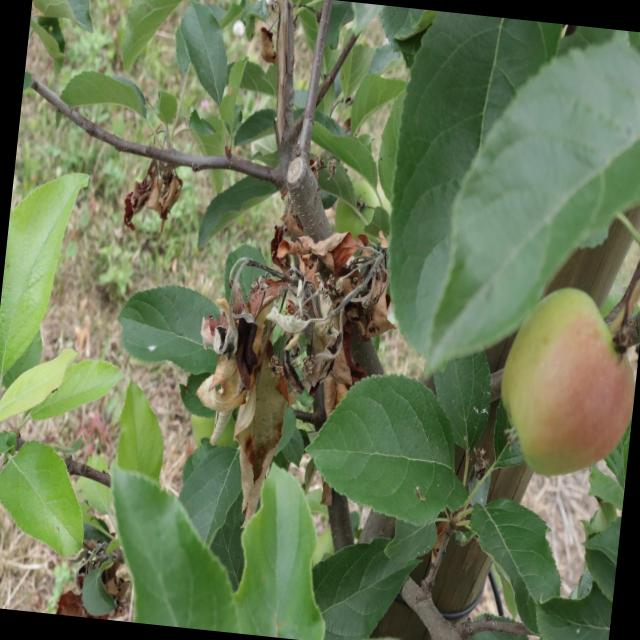-FireBlight-: (218, 230, 398, 395), (121, 156, 180, 227)
